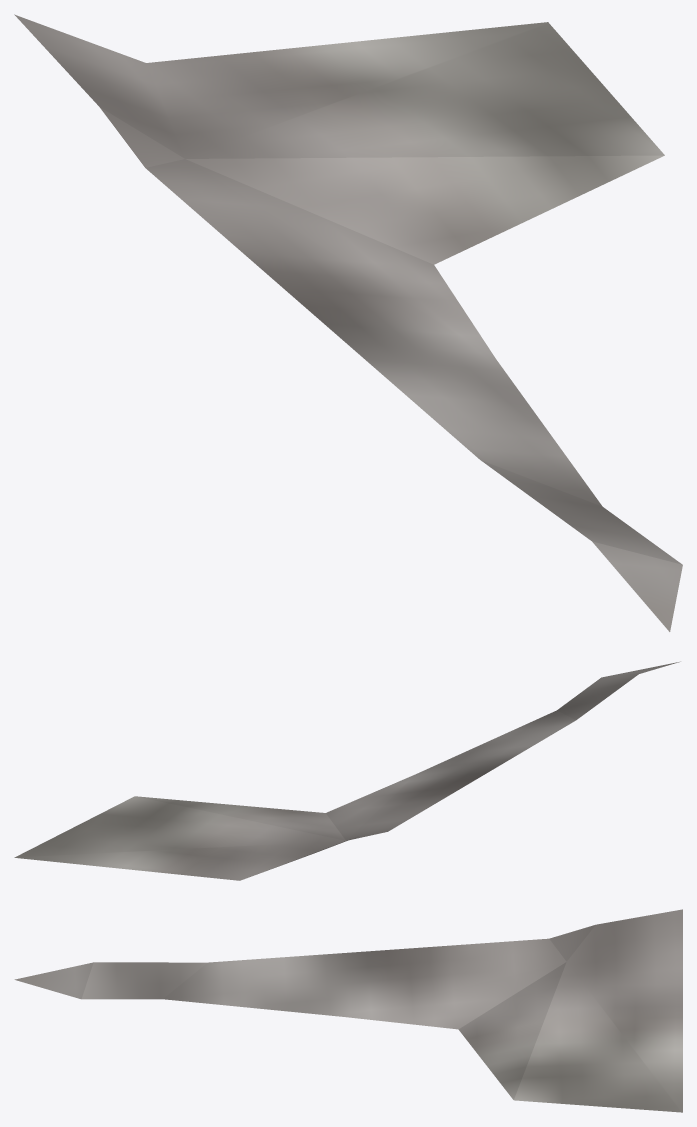
3 renders of one model, top to bottom at view 1: azimuth 30°, elevation 25°; view 2: azimuth 150°, elevation 25°; view 3: azimuth 270°, elevation 25°, orthographic. The views are drawn at different scales.
Bounding box in the file's own units: 0.0491 × 0.0121 × 0.1045.
Materials: 1 (1 with a texture image).
